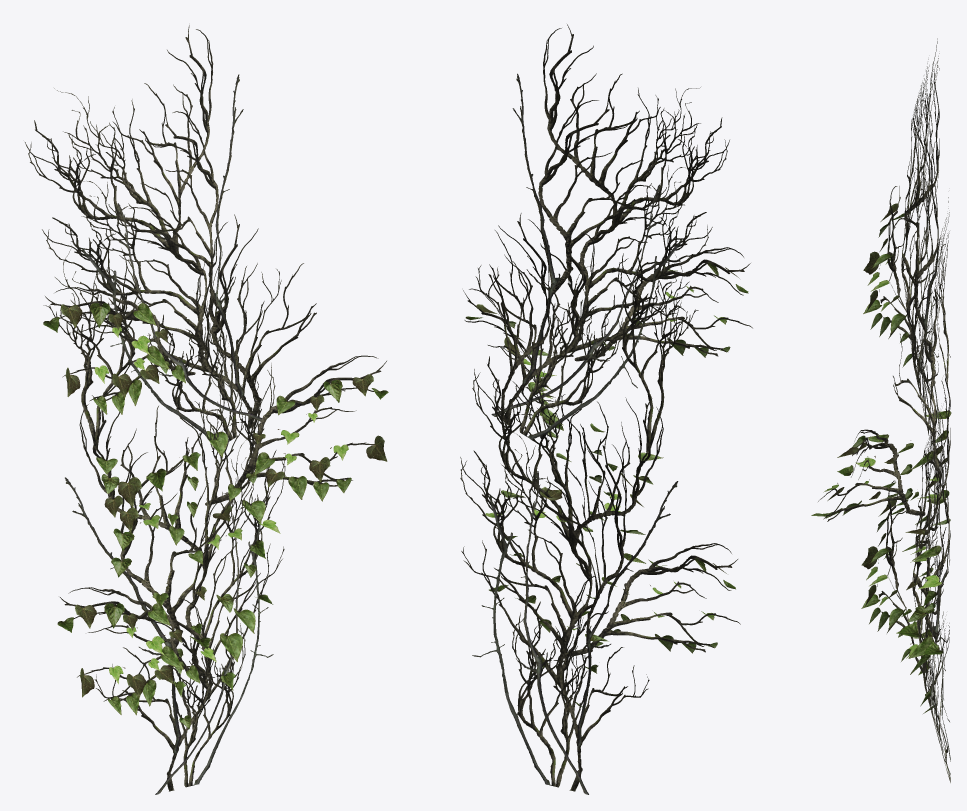
Rendered from SM_IvyWall_01.FBX.
The picture shows the model from 3 angles, left to right: view 1: azimuth 30°, elevation 25°; view 2: azimuth 150°, elevation 25°; view 3: azimuth 270°, elevation 25°; orthographic projection. The views are drawn at different scales.
Visible parts, largest first — view 1: SM_IvyWall_01; view 2: SM_IvyWall_01; view 3: SM_IvyWall_01.
Boxes of the visible parts, x1=… form: SM_IvyWall_01: x1=25, y1=25, x2=388, y2=794; SM_IvyWall_01: x1=460, y1=24, x2=752, y2=794; SM_IvyWall_01: x1=811, y1=38, x2=951, y2=782.
Size of what is drawn, in the model's own units: 290 by 114 by 598.
